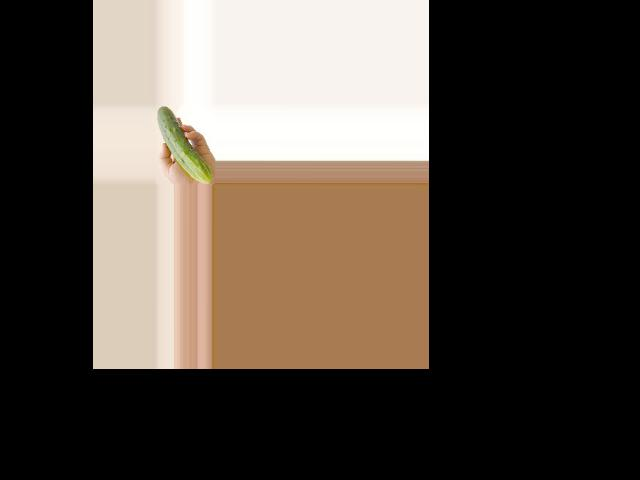cucumber: (157, 106, 213, 183)
